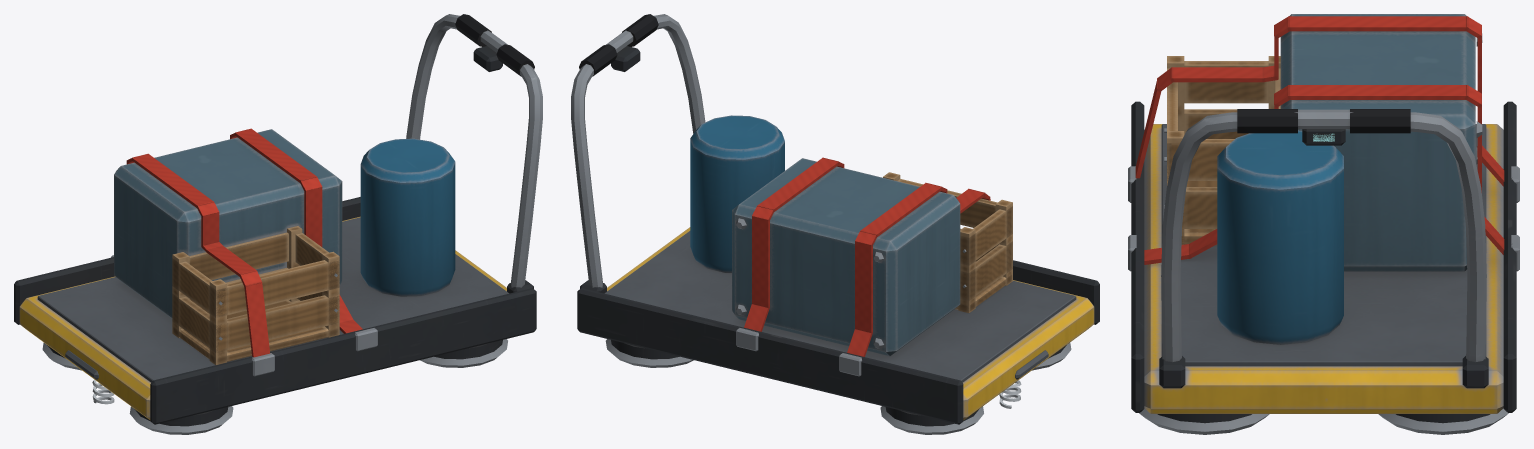
Rendered from carro_carga.fbx.
3 renders of one model, left to right at view 1: azimuth 30°, elevation 25°; view 2: azimuth 150°, elevation 25°; view 3: azimuth 270°, elevation 25°, orthographic. The views are drawn at different scales.
Visible parts, largest first — view 1: carro_carga; view 2: carro_carga; view 3: carro_carga.
Part boxes in pixels (<box>): carro_carga: <box>14,14,542,434</box>; carro_carga: <box>571,14,1099,434</box>; carro_carga: <box>1128,14,1519,434</box>.
Bounding box in the file's own units: 3.09 × 1.89 × 1.81.
2 materials, 1 textured.
